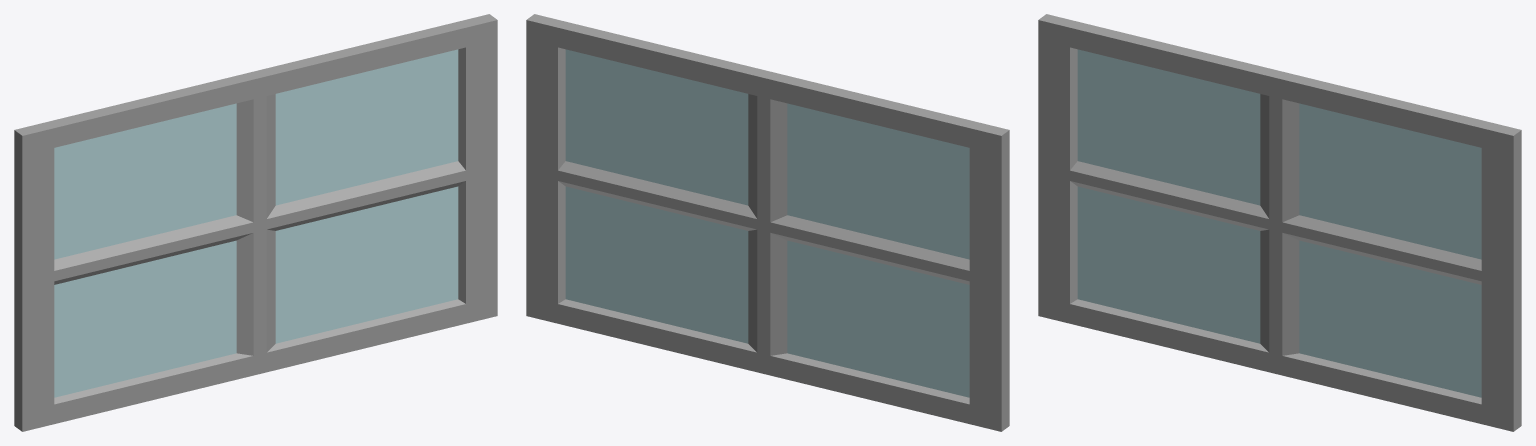
File: WindowA.fbx
3 renders of one model, left to right at view 1: azimuth 30°, elevation 25°; view 2: azimuth 150°, elevation 25°; view 3: azimuth 330°, elevation 25°, orthographic.
Visible parts, largest first — view 1: pCube1; view 2: pCube1; view 3: pCube1.
Part boxes in pixels (x1,y1,x2,y2): pCube1: (14, 14, 497, 431); pCube1: (526, 14, 1009, 431); pCube1: (1038, 14, 1521, 431).
Bounding box in the file's own units: 4.6 × 2.74 × 0.1371.
